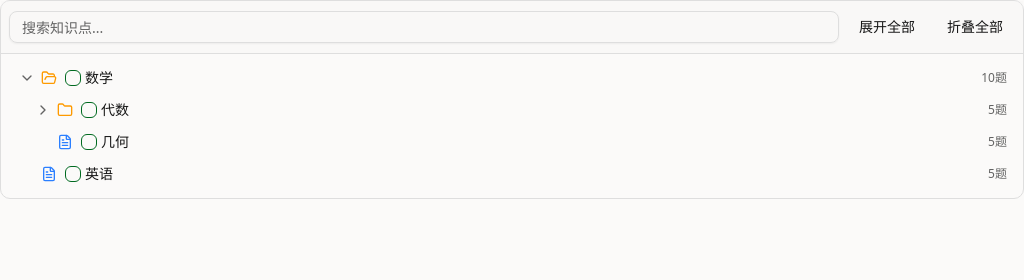
Scenario: KeypointTree Component › handles Toolbar actions: Expand All / Collapse All
Expected: the text "方程" is not shown
Step 1. Click the button "展开全部" → (887, 27), box top-left (847, 9), bottom-right (927, 45)
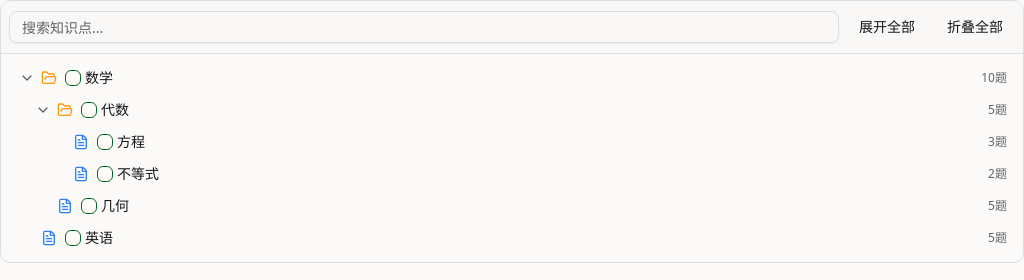
Now the text "方程" is shown, box top-left (117, 132), bottom-right (145, 151)
Step 2. Click the button "折叠全部" → (975, 27), box top-left (935, 9), bottom-right (1015, 45)
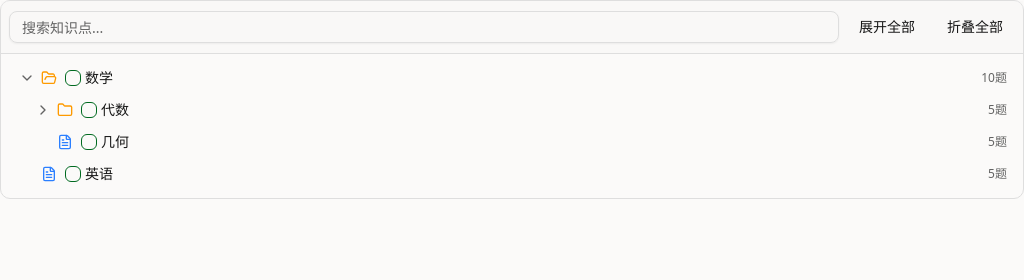
Expected: the text "代数" is shown, top-left (101, 100), bottom-right (129, 119)
Now the text "方程" is gone
